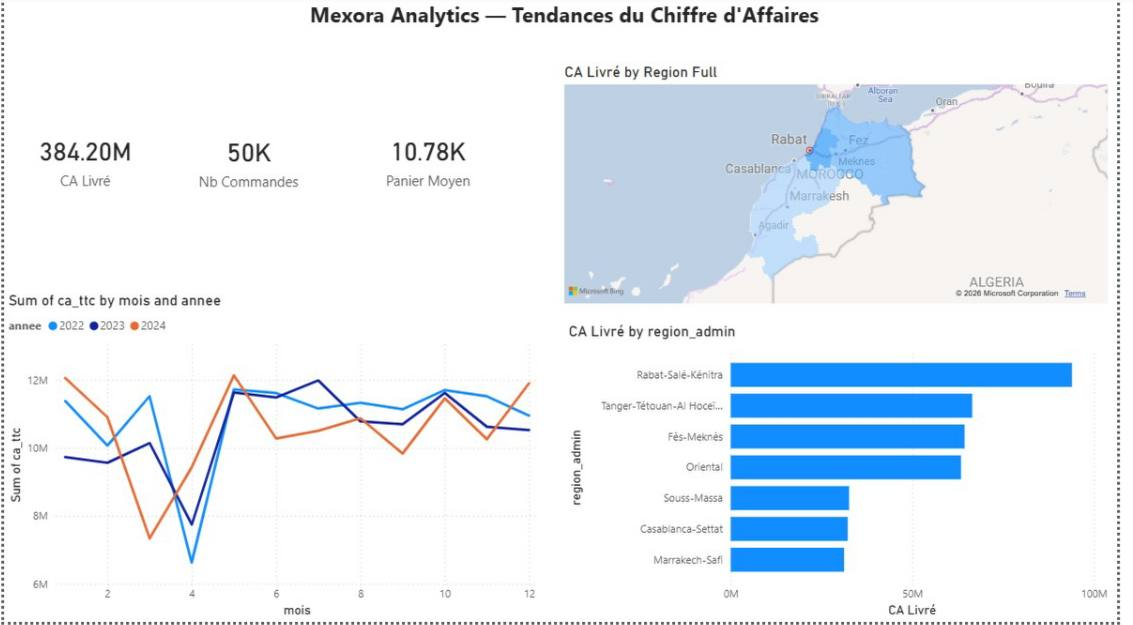

The page's visual inventory and layout, read from the dashboard file:
{"tool":"powerbi","page":{"name":"Tendances CA","canvas":[1280,720],"ordinal":0},"visuals":[{"type":"card","fields":{"Values":["FAIT_VENTES.CA Livré"]},"box":[24.4,126.9,385.5,170.8],"z":0},{"type":"card","fields":{"Values":["FAIT_VENTES.Nb Commandes"]},"box":[902.7,130.1,377.4,164.3],"z":1000},{"type":"card","fields":{"Values":["FAIT_VENTES.Panier Moyen"]},"box":[409.9,133.4,458.7,164.3],"z":2000},{"type":"lineChart","fields":{"Category":["MV_CA_MENSUEL.mois"],"Y":["Sum(MV_CA_MENSUEL.ca_ttc)"],"Series":["MV_CA_MENSUEL.annee"]},"box":[65.1,359.5,642.5,326.9],"z":3000},{"type":"clusteredBarChart","fields":{"Category":["DIM_CLIENT.region_admin"],"Y":["FAIT_VENTES.CA Livré"]},"box":[738.5,346.5,541.6,353],"z":4000},{"type":"textbox","box":[302.5,42.3,671.8,78.1],"z":5000}]}

Visuals, with their boxes in screenshot pixels (x1, y1, x2, y2), scaled from the page's 1280x720 canvas onto the 1133x625 screenshot:
card - FAIT_VENTES.CA Livré: box(22, 110, 363, 258)
card - FAIT_VENTES.Nb Commandes: box(799, 113, 1132, 256)
card - FAIT_VENTES.Panier Moyen: box(363, 116, 769, 258)
lineChart - MV_CA_MENSUEL.mois x Sum(MV_CA_MENSUEL.ca_ttc): box(58, 312, 626, 596)
clusteredBarChart - DIM_CLIENT.region_admin x FAIT_VENTES.CA Livré: box(654, 301, 1132, 607)
textbox: box(268, 37, 862, 105)
